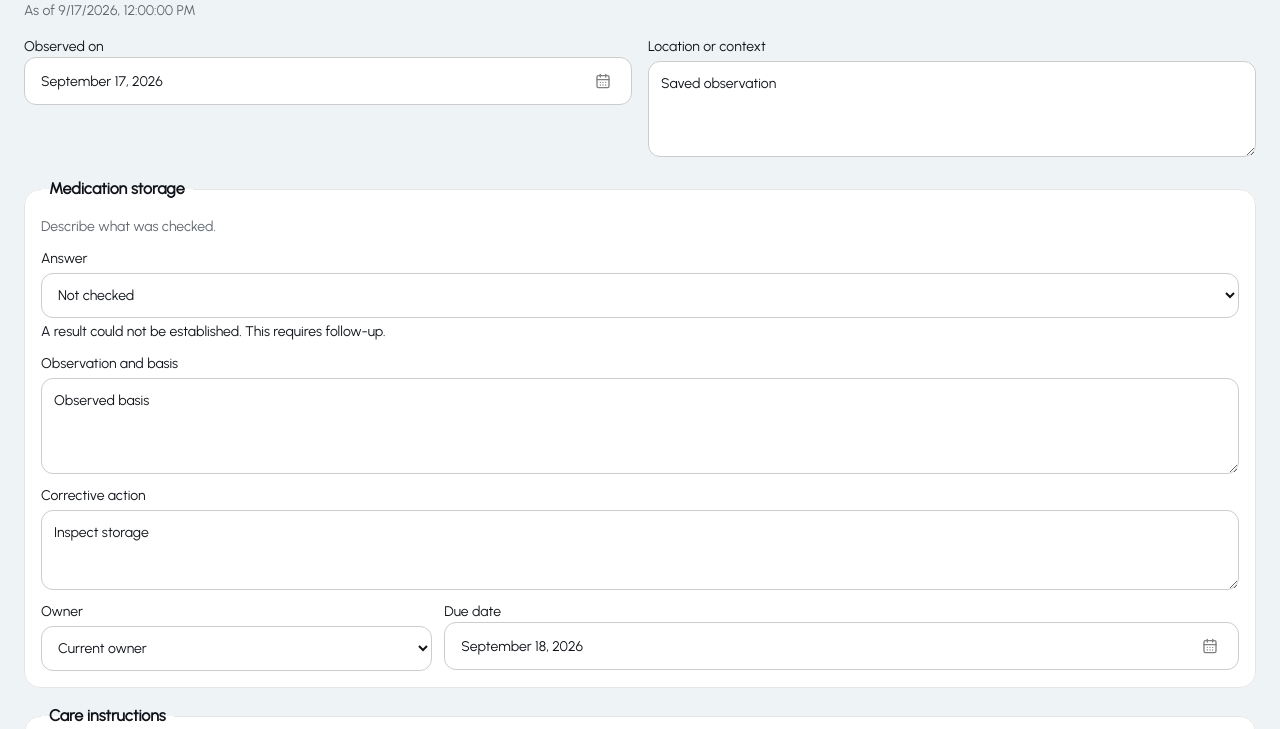
it: locks after a saved mutation until detail reload succeeds and retries only the read
Later steps or results of the test are not shown.
Replace the text in the text box labelled "Location or context" with "Confirmed saved edit": x=952, y=109 [648,61,1256,157]
(page scrolled)
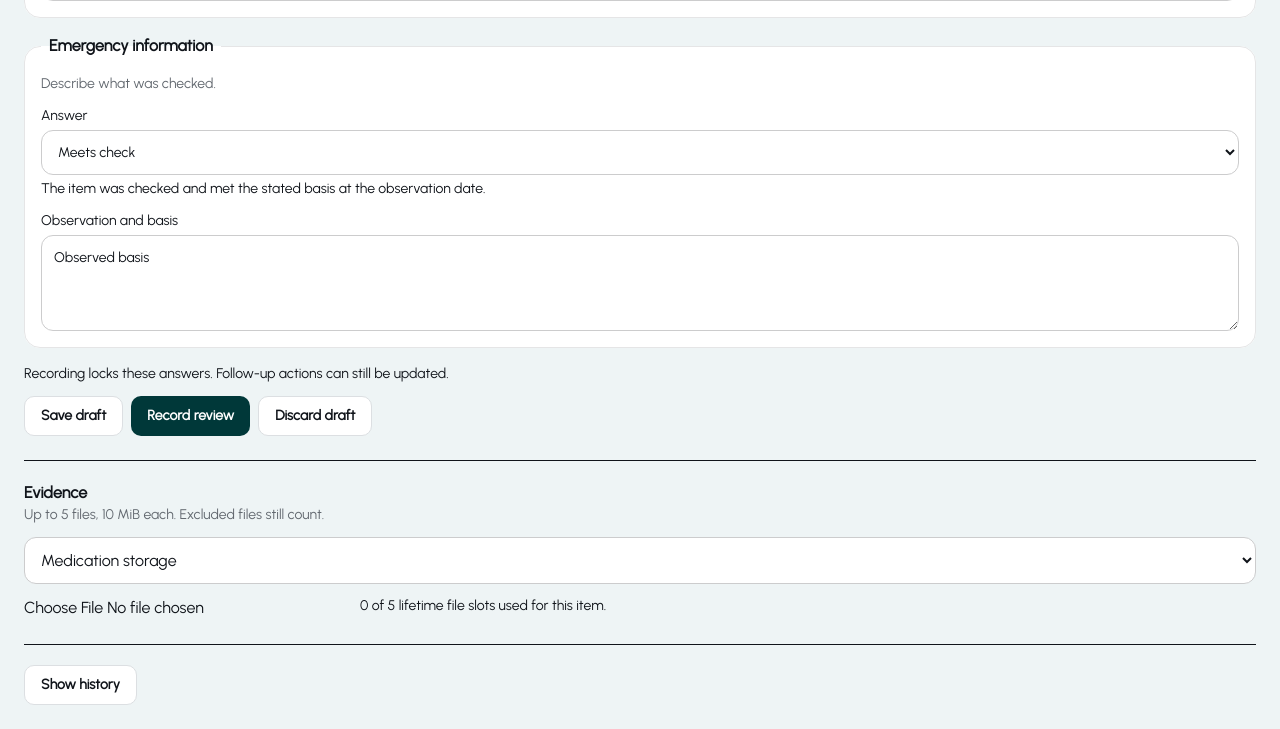
Click the button "Save draft": x=74, y=416 [24,396,123,436]
(page scrolled)
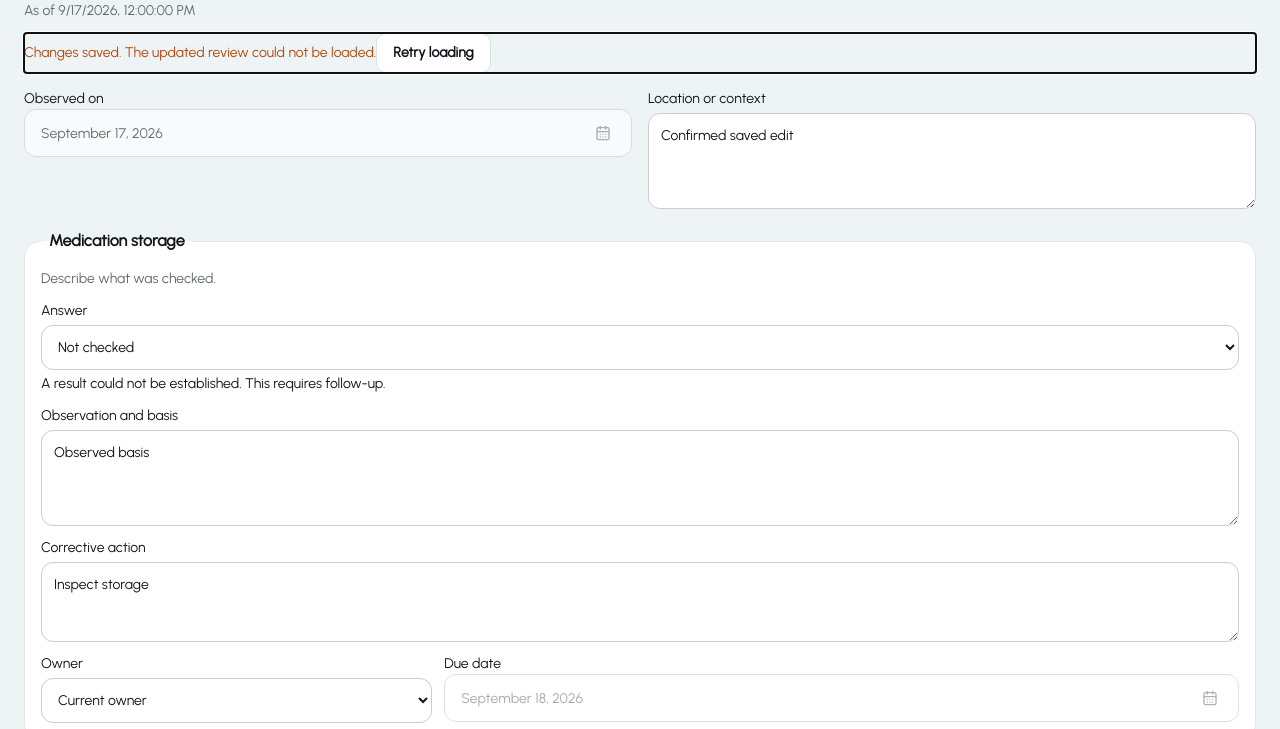
Now the text box labelled "Location or context" is disabled, box [648,113,1256,209]
